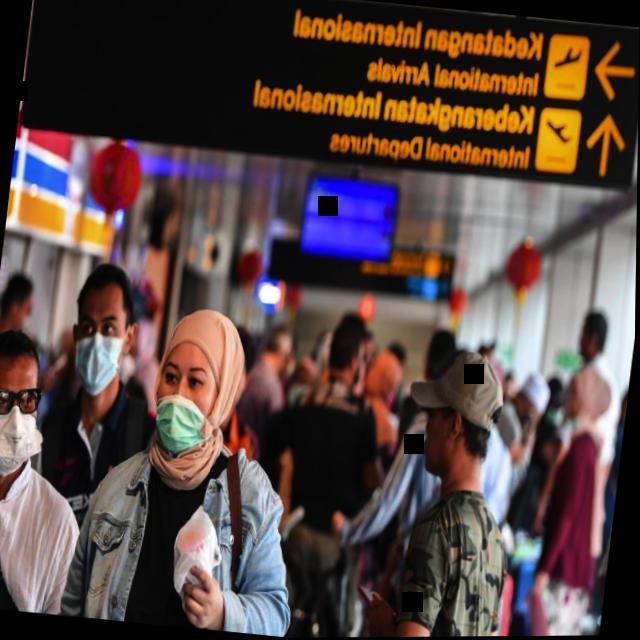Mask: (148, 309, 247, 465), (67, 258, 145, 404), (0, 319, 57, 486)
NO-Mask: (414, 344, 511, 495)
